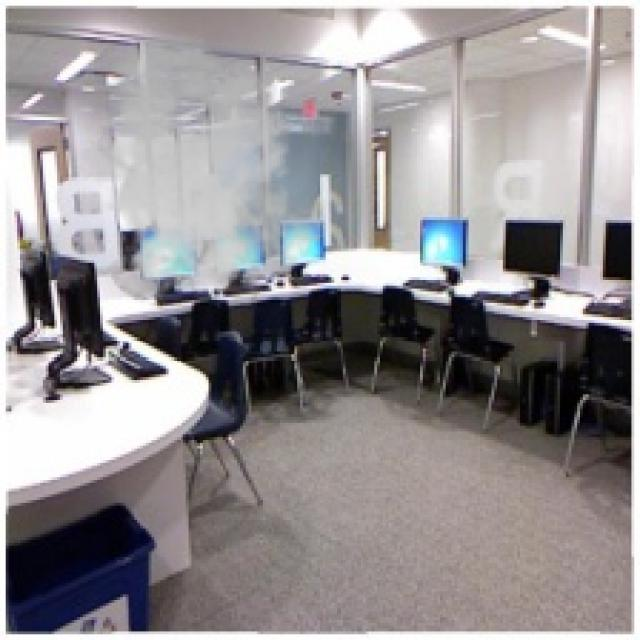smoke: (66, 31, 326, 306)
